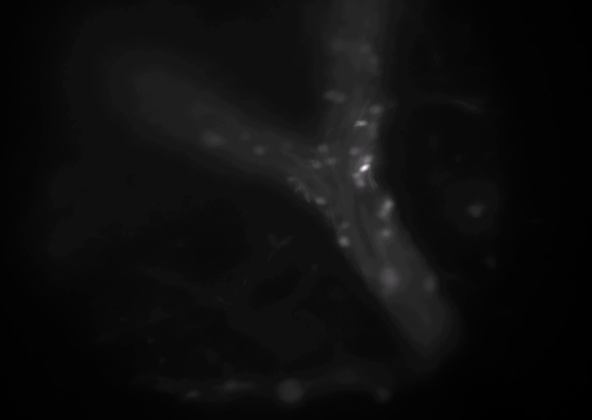cell: (357, 162, 371, 176), (354, 117, 368, 131), (370, 104, 384, 118), (349, 145, 363, 159), (362, 152, 376, 166), (316, 141, 330, 155), (311, 157, 325, 171), (325, 154, 339, 168), (324, 89, 338, 103), (350, 169, 364, 183), (335, 92, 349, 106), (353, 177, 367, 191), (337, 236, 351, 250), (382, 272, 396, 286), (380, 227, 394, 241), (381, 197, 395, 211), (377, 206, 391, 220), (379, 202, 393, 216), (312, 195, 326, 209), (338, 216, 352, 230), (283, 172, 297, 186), (253, 143, 267, 157), (207, 134, 221, 148), (425, 275, 439, 289), (357, 44, 371, 58), (367, 53, 381, 67), (334, 40, 348, 54), (366, 130, 380, 144)
